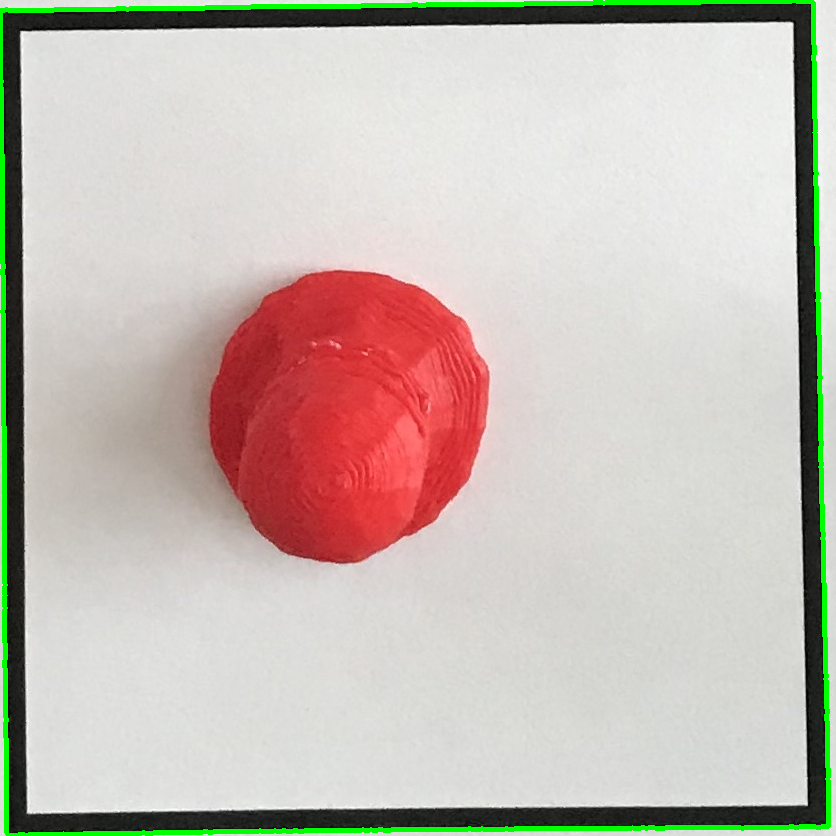Red Pawn: (197, 255, 500, 576)
